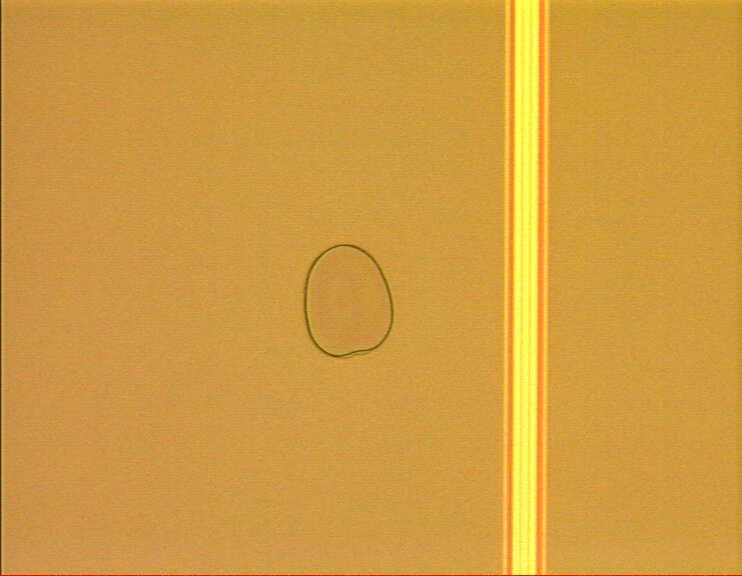PIQ PARTICLE: (300, 239, 400, 365)
